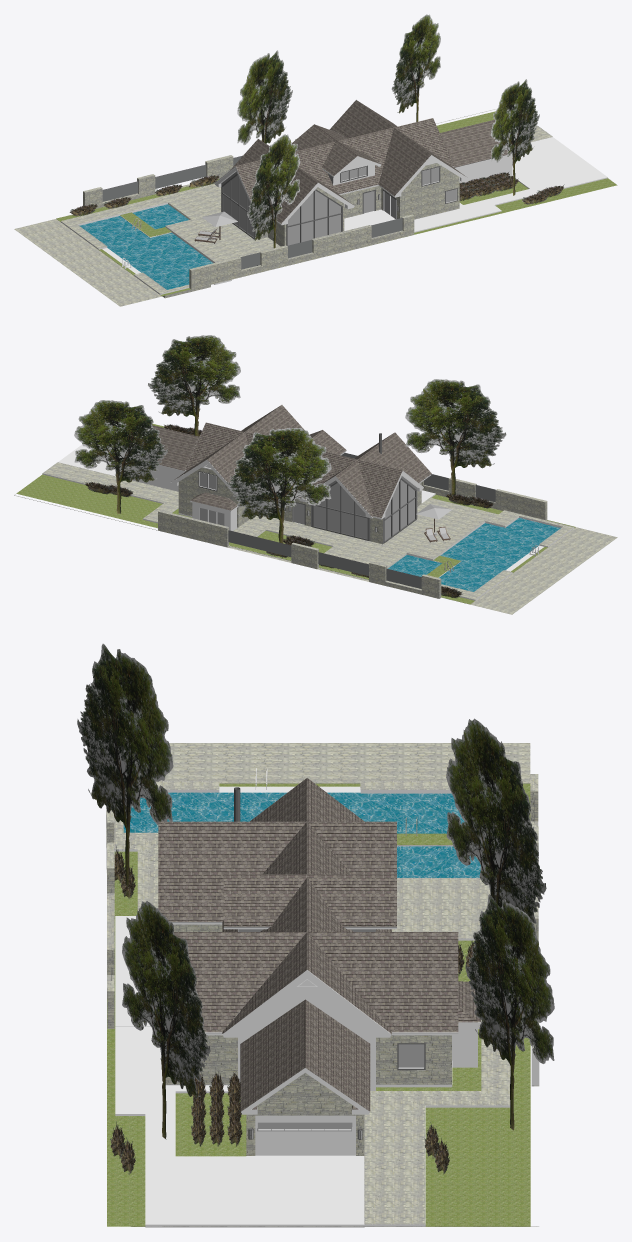
File: lux-home.glb
The picture shows the model from 3 angles, top to bottom: view 1: azimuth 30°, elevation 25°; view 2: azimuth 150°, elevation 25°; view 3: azimuth 270°, elevation 25°; orthographic projection. The views are drawn at different scales.
Visible parts, largest first — view 1: lux-home; view 2: lux-home; view 3: lux-home.
Boxes of the visible parts, x1=… form: lux-home: x1=14, y1=14, x2=617, y2=306; lux-home: x1=14, y1=335, x2=617, y2=614; lux-home: x1=77, y1=643, x2=554, y2=1227.
Bounding box in the file's own units: 54.62 × 14.92 × 22.77.
Materials: 46 (28 with a texture image).
